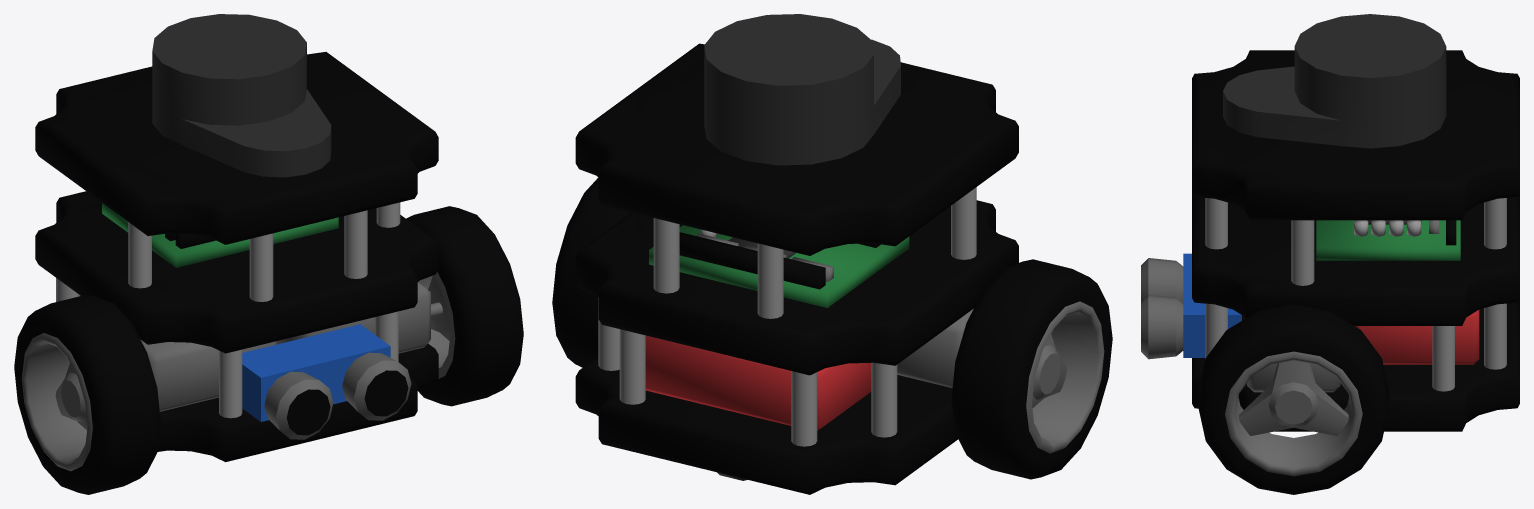
File: turtlebot.glb
3 views of the same model, side by side, from view 1: azimuth 30°, elevation 25°; view 2: azimuth 150°, elevation 25°; view 3: azimuth 270°, elevation 25° (orthographic). The views are drawn at different scales.
Parts seen in each view (by area): view 1: Base, Wheel1, Wheel2; view 2: Base, Wheel1, Wheel2; view 3: Base, Wheel2.
Boxes of the visible parts, box(x1,y1,x2,y2) form: Base: box(35, 14, 438, 462); Wheel1: box(14, 294, 160, 494); Wheel2: box(406, 206, 523, 406); Base: box(575, 14, 1018, 494); Wheel1: box(951, 259, 1112, 479); Wheel2: box(552, 177, 631, 367); Base: box(1141, 14, 1519, 431); Wheel2: box(1198, 304, 1389, 494).
Bounding box in the file's own units: 2.94 × 2.38 × 2.31.
1 material, 1 textured.
